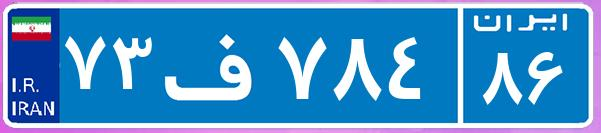3: (110, 28, 158, 105)
4: (385, 28, 445, 110)
6: (525, 38, 570, 115)
7: (273, 28, 330, 110), (57, 26, 110, 107)
8: (330, 28, 385, 110), (475, 38, 525, 113)
ف: (158, 15, 273, 115)
